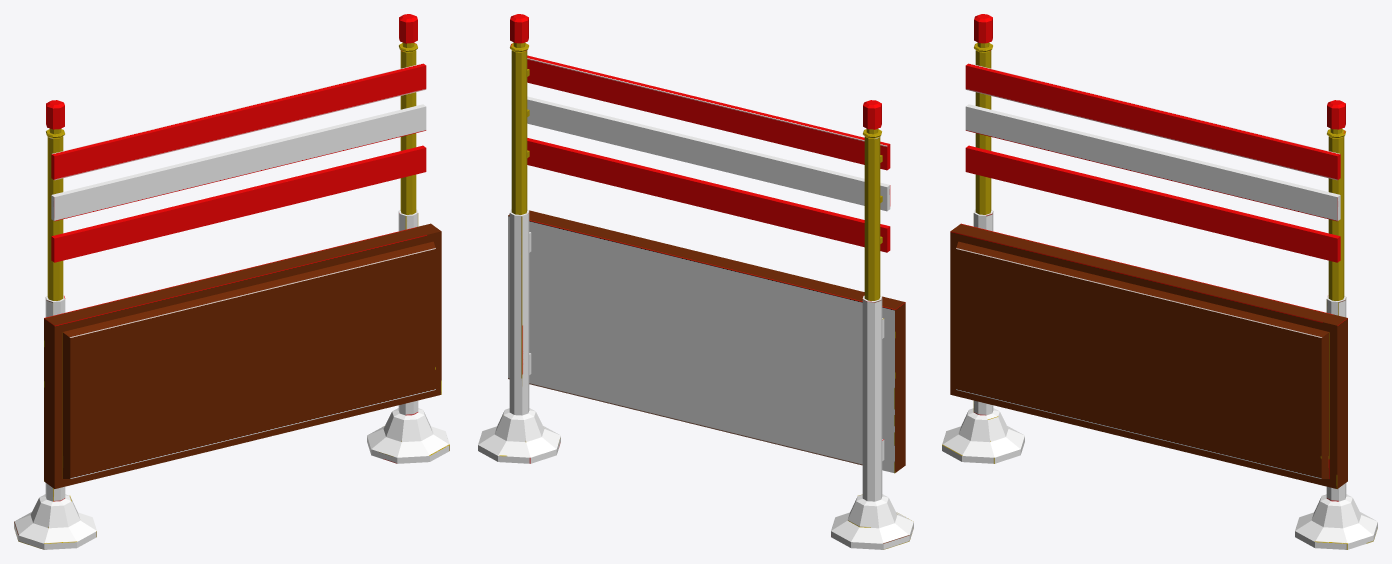
The model's file is LowSign.fbx.
The picture shows the model from 3 angles, left to right: view 1: azimuth 30°, elevation 25°; view 2: azimuth 150°, elevation 25°; view 3: azimuth 330°, elevation 25°; orthographic projection.
Parts seen in each view (by area): view 1: Sign_Low; view 2: Sign_Low; view 3: Sign_Low.
Boxes of the visible parts, x1,y1,x2,y2 form: Sign_Low: (14, 14, 449, 549); Sign_Low: (478, 14, 913, 549); Sign_Low: (942, 14, 1377, 549).
Size of the model in its own units: 110 by 106 by 19.24.
